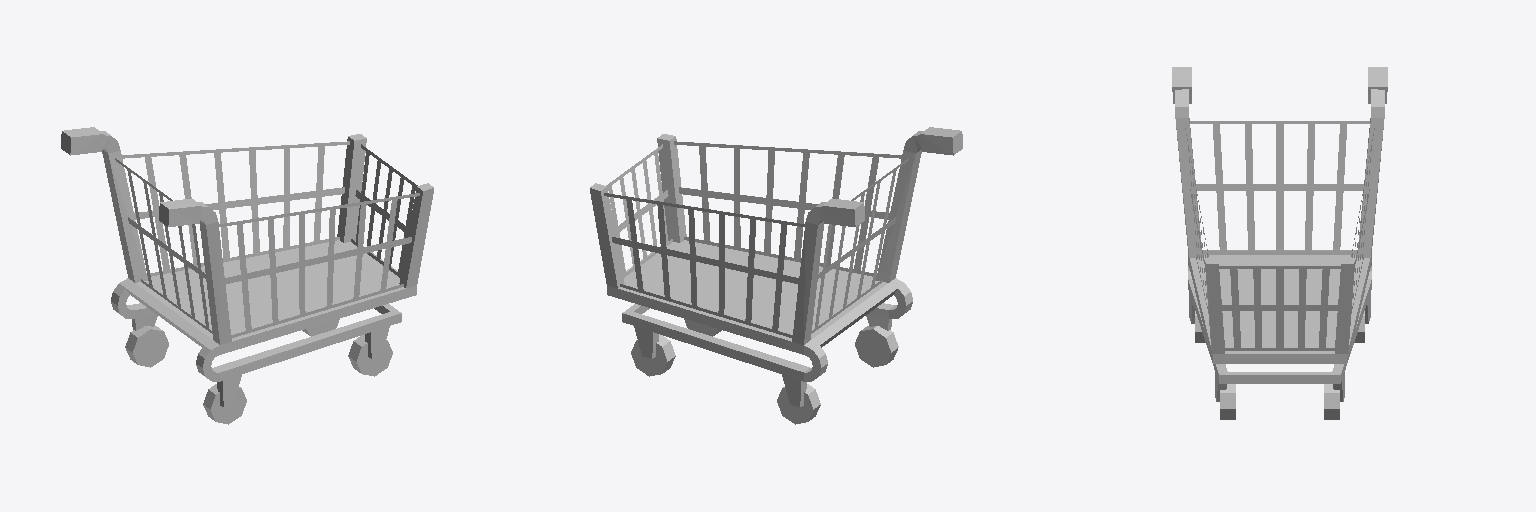
Rendered from basket.obj.
3 views of the same model, side by side, from view 1: azimuth 30°, elevation 25°; view 2: azimuth 150°, elevation 25°; view 3: azimuth 270°, elevation 25° (orthographic).
Visible parts, largest first — view 1: Plane.001, Plane.002, Cylinder.037_Cylinder.023, Cylinder.038_Cylinder.024, Cube.012_Cube.014; view 2: Plane.001, Plane.002, Cylinder.037_Cylinder.023, Cylinder.038_Cylinder.024, Cube.012_Cube.014; view 3: Plane.001, Plane.002, Cylinder.038_Cylinder.024.
Part boxes in pixels (left/top/right/bottom): Plane.001: left=61, top=127, right=433, bottom=381; Plane.002: left=115, top=141, right=419, bottom=337; Cylinder.037_Cylinder.023: left=125, top=326, right=246, bottom=424; Cylinder.038_Cylinder.024: left=302, top=319, right=392, bottom=376; Cube.012_Cube.014: left=132, top=315, right=241, bottom=406; Plane.001: left=590, top=127, right=962, bottom=381; Plane.002: left=604, top=141, right=908, bottom=337; Cylinder.037_Cylinder.023: left=777, top=326, right=898, bottom=424; Cylinder.038_Cylinder.024: left=631, top=319, right=721, bottom=376; Cube.012_Cube.014: left=782, top=315, right=891, bottom=406; Plane.001: left=1172, top=67, right=1387, bottom=383; Plane.002: left=1185, top=121, right=1374, bottom=350; Cylinder.038_Cylinder.024: left=1220, top=384, right=1339, bottom=419.
Bounding box in the file's own units: 0.8629 × 0.7008 × 0.5687.